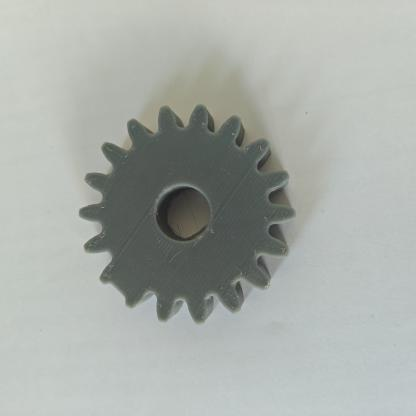defect: (90, 246, 161, 318)
gear: (67, 100, 326, 335)
